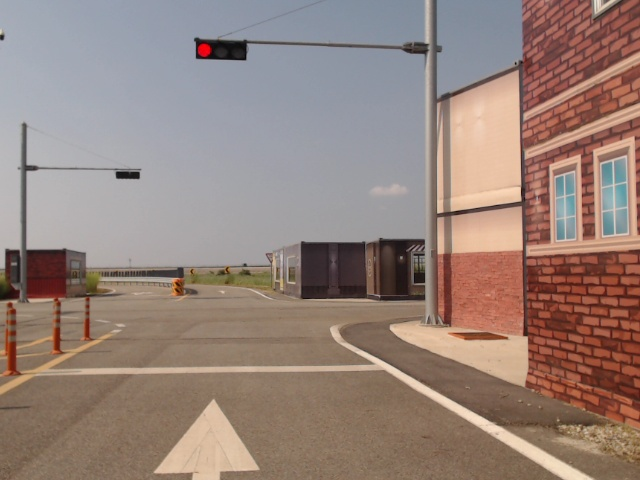red_3: (195, 40, 246, 61)
